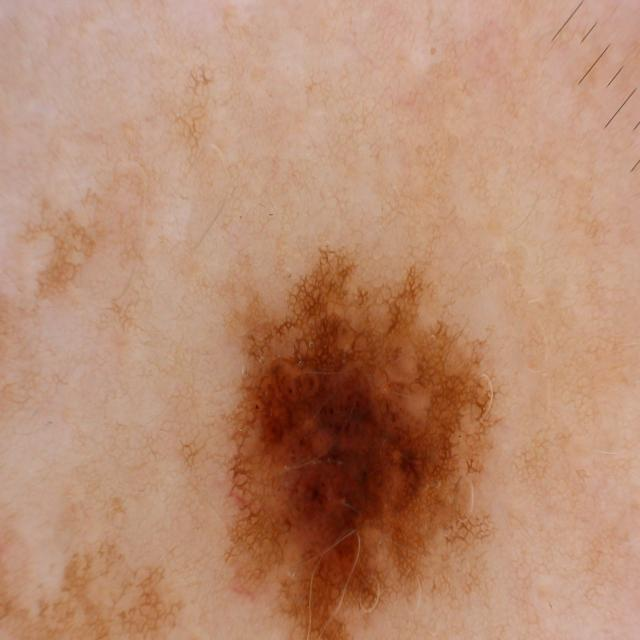Melanoma: (161, 220, 545, 640)
